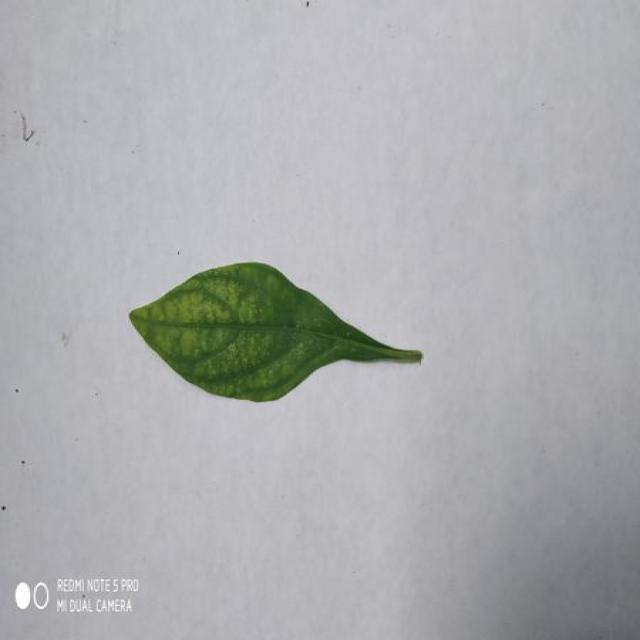Nelavembu: (130, 262, 422, 401)
